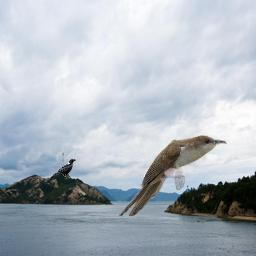Crow: (52, 158, 76, 179)
Cuckoo: (119, 135, 227, 216)
